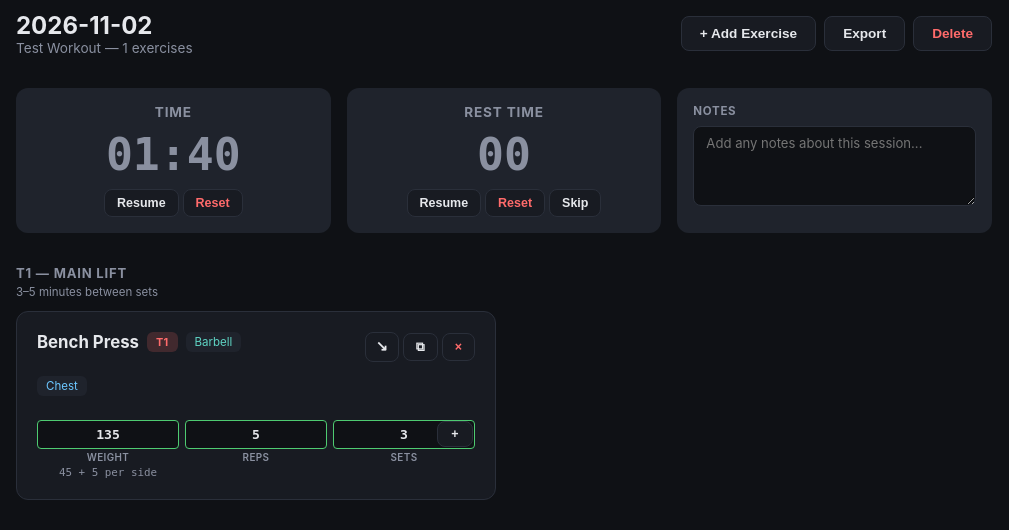
plate breakdown on session cards › updates live as the weight is typed, and leaves the input text untouched
Expected: the text with test id "plate-breakdown" reads "45 + 5 per side", [59,466,157,479]
Step 1. Replace the text in the 1st field with placeholder "Weight" with "137" → (108,434), box [37,420,179,449]
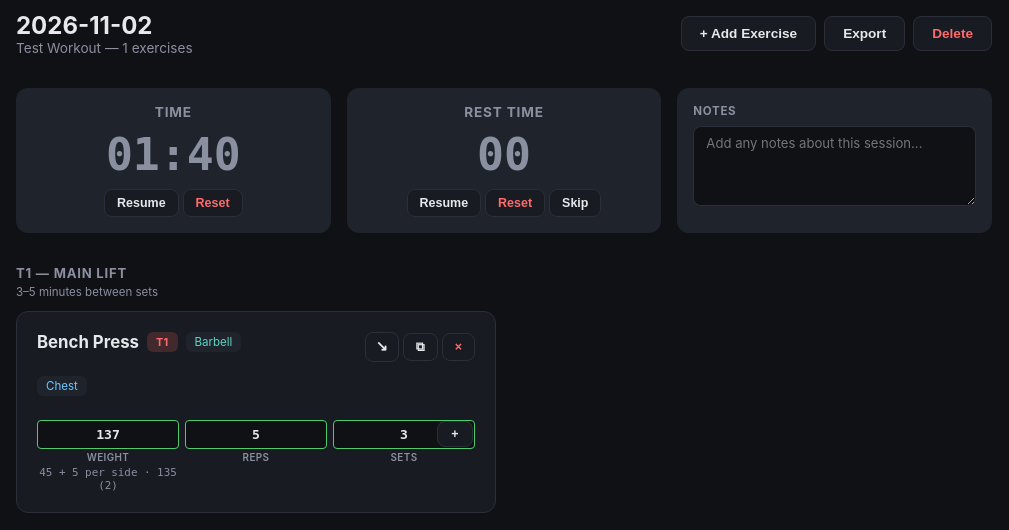
Now the text with test id "plate-breakdown" shows "135 (2)", box [39,466,177,492]
